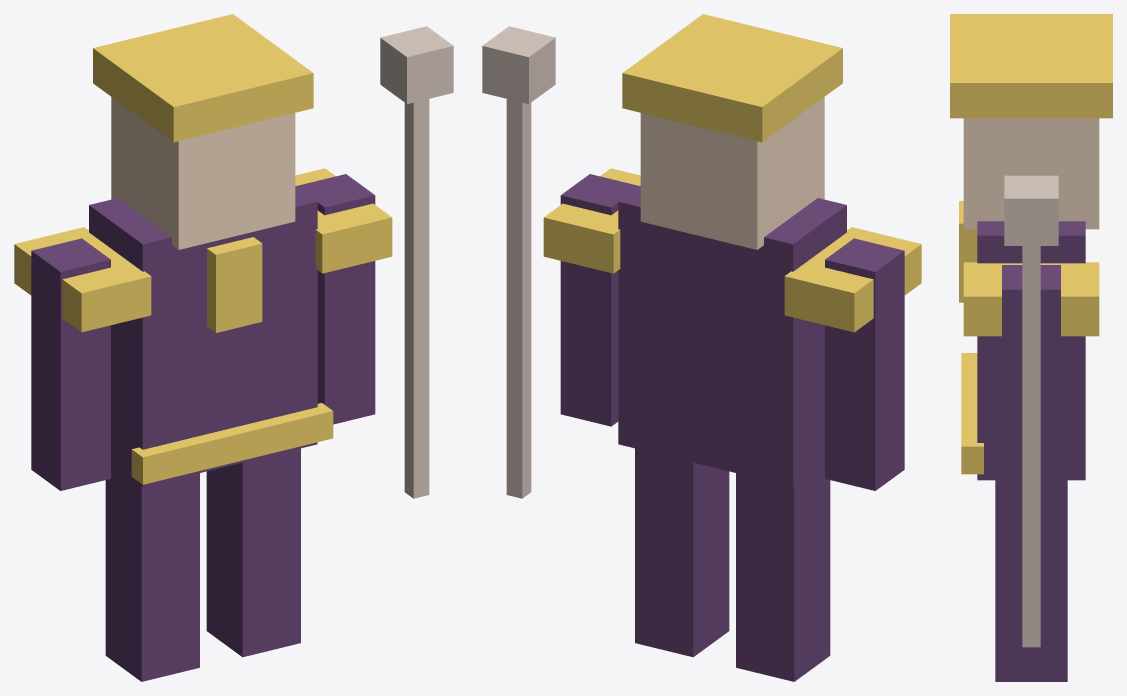
The model's file is 02_varren_cinderholt_oracle_of_turret.glb.
3 renders of one model, left to right at view 1: azimuth 30°, elevation 25°; view 2: azimuth 150°, elevation 25°; view 3: azimuth 270°, elevation 25°, orthographic.
Visible parts, largest first — view 1: Varren Cinderholt, Oracle of Turret; view 2: Varren Cinderholt, Oracle of Turret; view 3: Varren Cinderholt, Oracle of Turret.
Part boxes in pixels (x1,y1,x2,y2): Varren Cinderholt, Oracle of Turret: (14, 14, 453, 681); Varren Cinderholt, Oracle of Turret: (482, 14, 921, 681); Varren Cinderholt, Oracle of Turret: (950, 14, 1112, 681).
Size of the model in its own units: 0.9823 by 1.4 by 0.3484.
